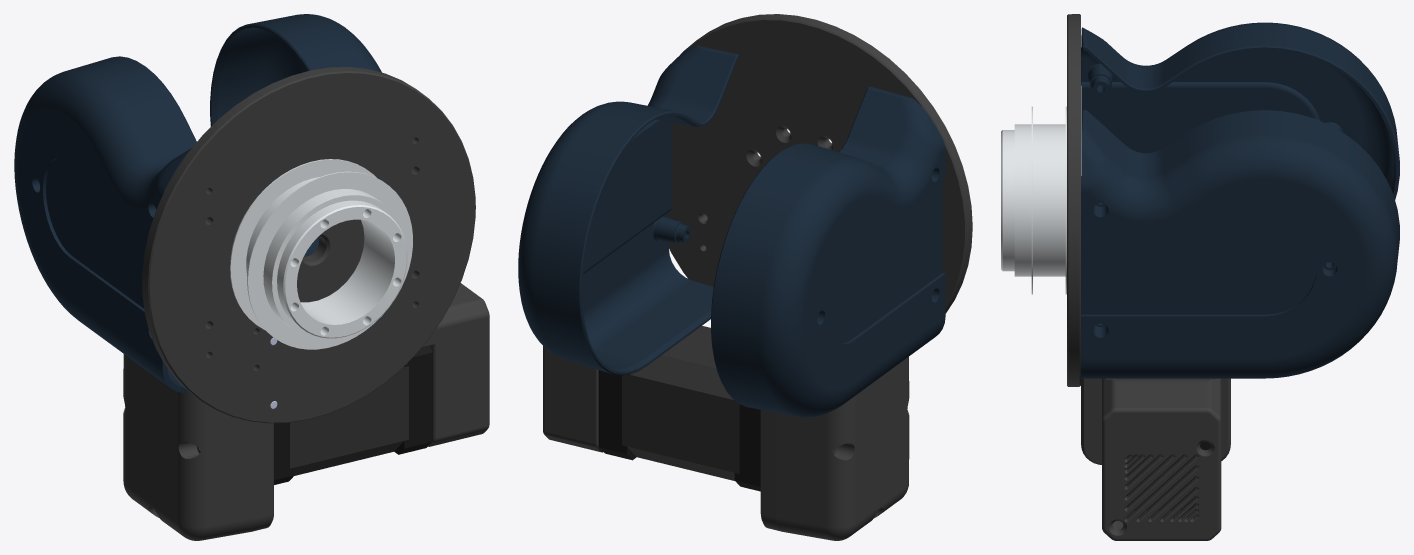
The model's file is shoulder_link.dae.
The picture shows the model from 3 angles, left to right: view 1: azimuth 30°, elevation 25°; view 2: azimuth 150°, elevation 25°; view 3: azimuth 270°, elevation 25°; orthographic projection.
Visible parts, largest first — view 1: Body_1, Body_9, Body_2, Body_8, Body_10, Body_4, Body_5, Body_7, Body_3, _3DGeom-478; view 2: Body_9, Body_10, Body_1, Body_8, Body_5, Body_4, Body_7, Body_3, _3DGeom-478; view 3: Body_10, Body_9, Body_4, Body_2, Body_1, Body_3.
Boxes of the visible parts, box(x1,y1,x2,y2) form: Body_1: box(142, 67, 475, 423); Body_9: box(14, 56, 196, 392); Body_2: box(230, 159, 412, 349); Body_8: box(123, 354, 258, 540); Body_10: box(210, 14, 381, 256); Body_4: box(406, 283, 489, 446); Body_5: box(290, 366, 408, 475); Body_7: box(394, 346, 432, 454); Body_3: box(252, 422, 273, 531); _3DGeom-478: box(274, 422, 294, 484); Body_9: box(711, 86, 945, 417); Body_10: box(518, 45, 738, 375); Body_1: box(669, 14, 972, 313); Body_8: box(776, 357, 909, 540); Body_5: box(622, 326, 739, 480); Body_4: box(543, 346, 602, 452); Body_7: box(598, 370, 636, 460); Body_3: box(760, 409, 781, 531); _3DGeom-478: box(734, 404, 760, 491); Body_10: box(1081, 110, 1399, 378); Body_9: box(1081, 22, 1399, 262); Body_4: box(1102, 378, 1221, 540); Body_2: box(1001, 106, 1066, 294); Body_1: box(1067, 14, 1080, 386); Body_3: box(1081, 373, 1230, 464).
Size of the model in its own units: 0.145 by 0.1411 by 0.1754.
